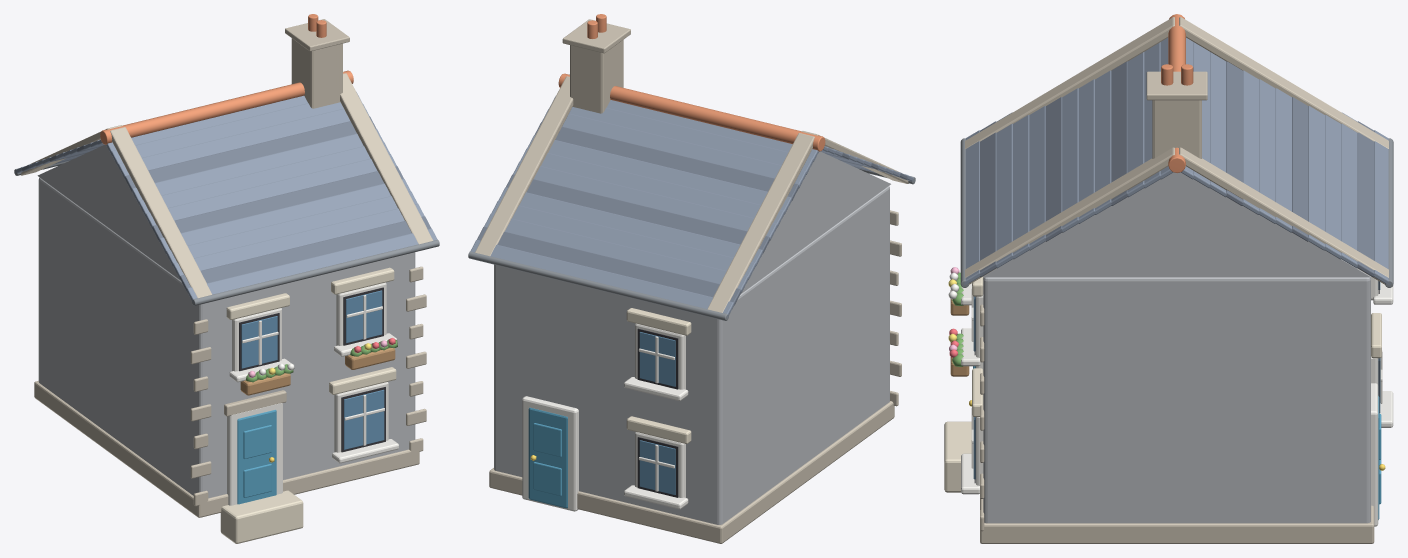
The model's file is cottage_a.fbx.
The picture shows the model from 3 angles, left to right: view 1: azimuth 30°, elevation 25°; view 2: azimuth 150°, elevation 25°; view 3: azimuth 270°, elevation 25°; orthographic projection. The views are drawn at different scales.
Visible parts, largest first — view 1: Visual; view 2: Visual; view 3: Visual.
Part boxes in pixels (<box>): Visual: <box>14,14,439,543</box>; Visual: <box>468,14,915,543</box>; Visual: <box>944,14,1393,543</box>.
Size of what is drawn, in the model's own units: 615 by 979 by 811.
